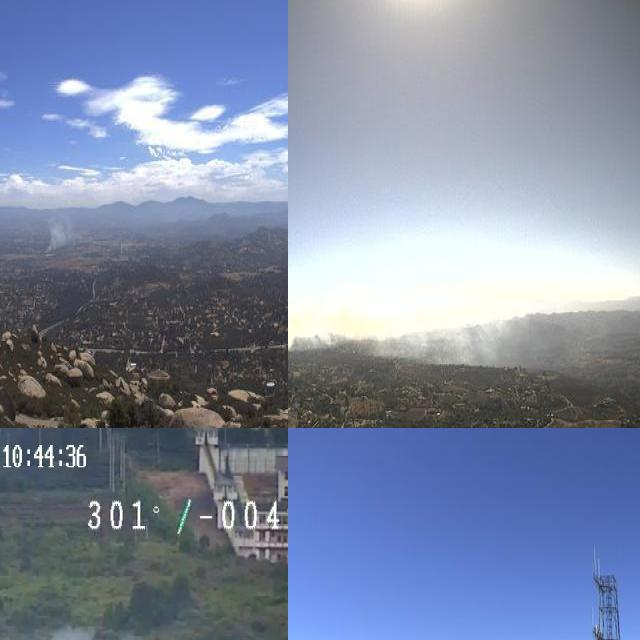smoke: (288, 300, 520, 372), (40, 214, 78, 256)
